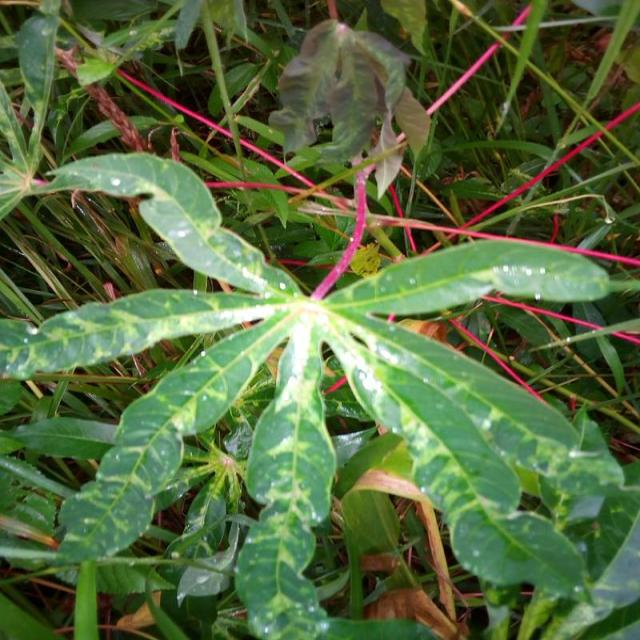cassava leaf: (3, 146, 625, 636), (268, 17, 430, 198)
